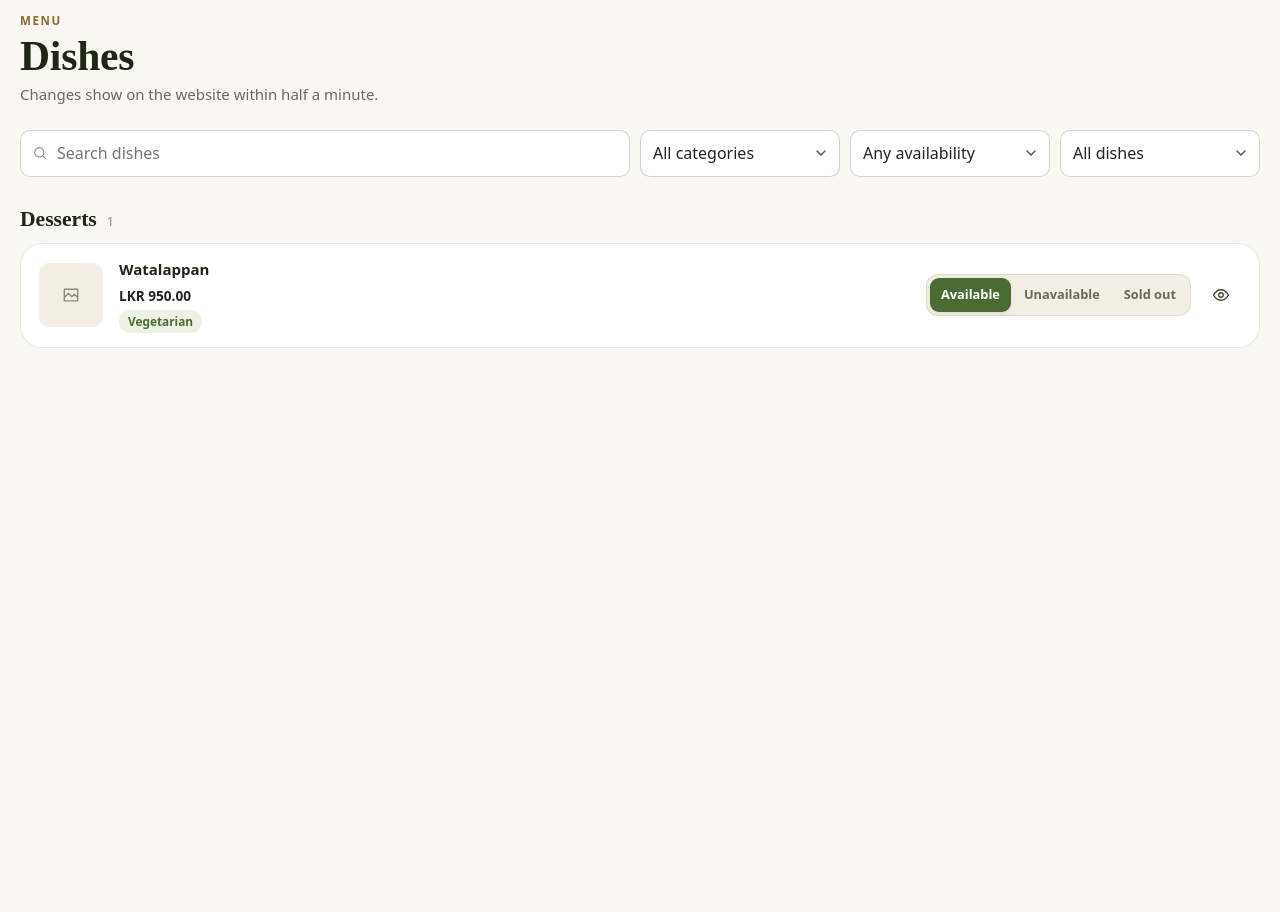
dish availability › marks a dish sold out through the availability endpoint
The width and height of the screenshot is (1280, 912).
What coordinates should you click on to do the following:
click the radio button labelled "Sold out"
I would click on:
 (1150, 294)
Its box is x1=1124 y1=285 x2=1176 y2=303.
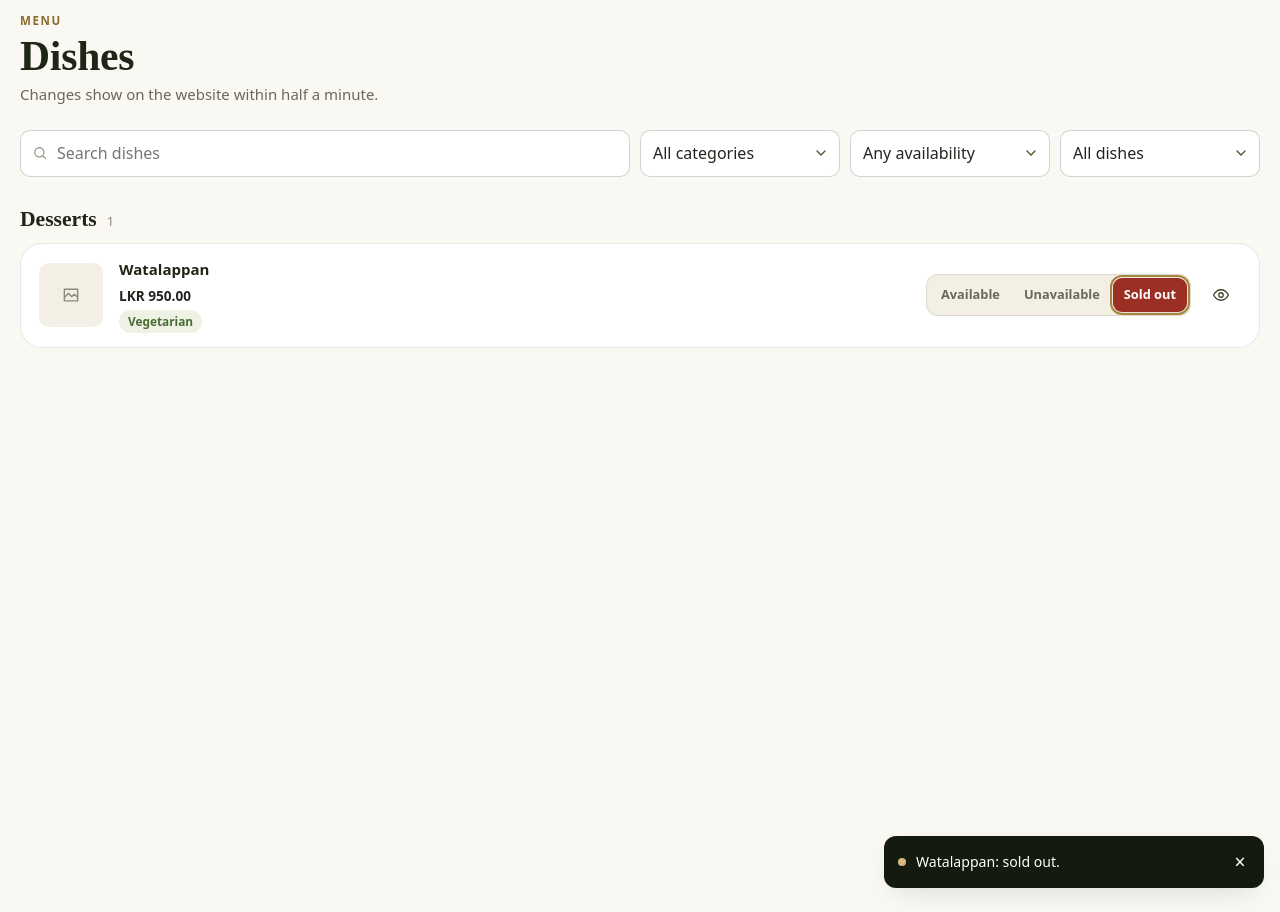
Expected: the radio button labelled "Sold out" is checked, x1=1113 y1=278 x2=1187 y2=312
Expected: the text "Watalappan: sold out." is shown, x1=916 y1=852 x2=1060 y2=871
